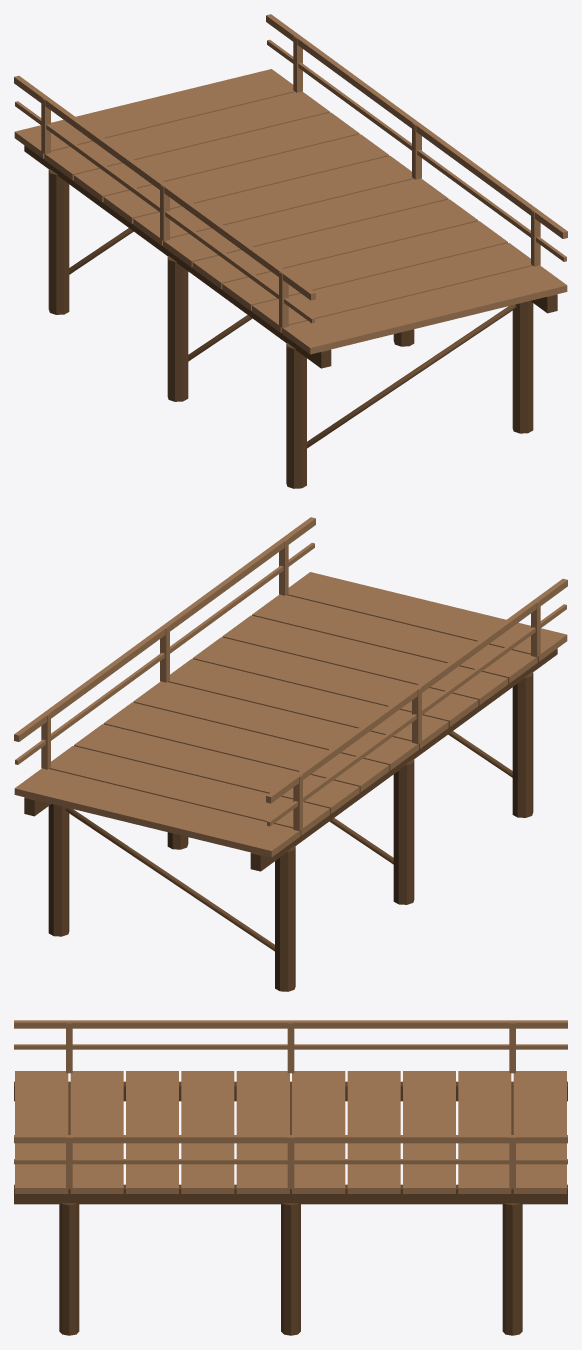
Rendered from pier_section.glb.
The picture shows the model from 3 angles, top to bottom: view 1: azimuth 30°, elevation 25°; view 2: azimuth 150°, elevation 25°; view 3: azimuth 270°, elevation 25°; orthographic projection. The views are drawn at different scales.
Visible parts, largest first — view 1: pier_section; view 2: pier_section; view 3: pier_section.
Boxes of the visible parts, x1,y1,x2,y2 form: pier_section: (14,14,567,488); pier_section: (14,517,567,991); pier_section: (14,1020,567,1335).
Size of the model in its own units: 5.02 by 4.01 by 10.
